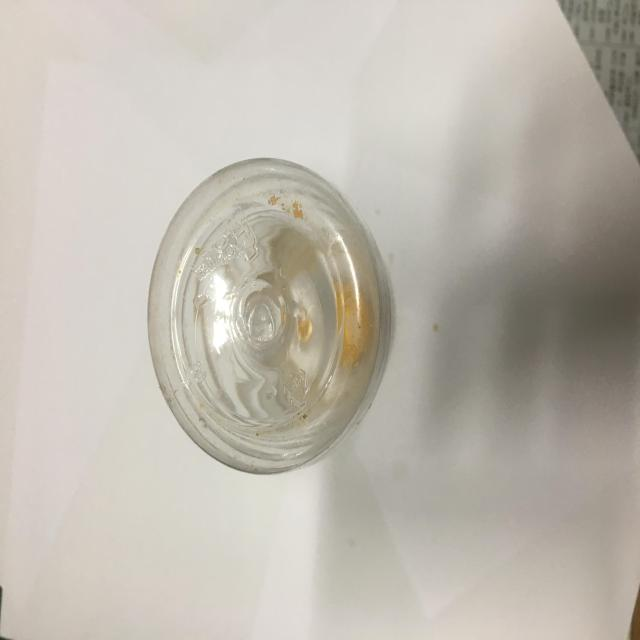bottle: (140, 150, 395, 481)
